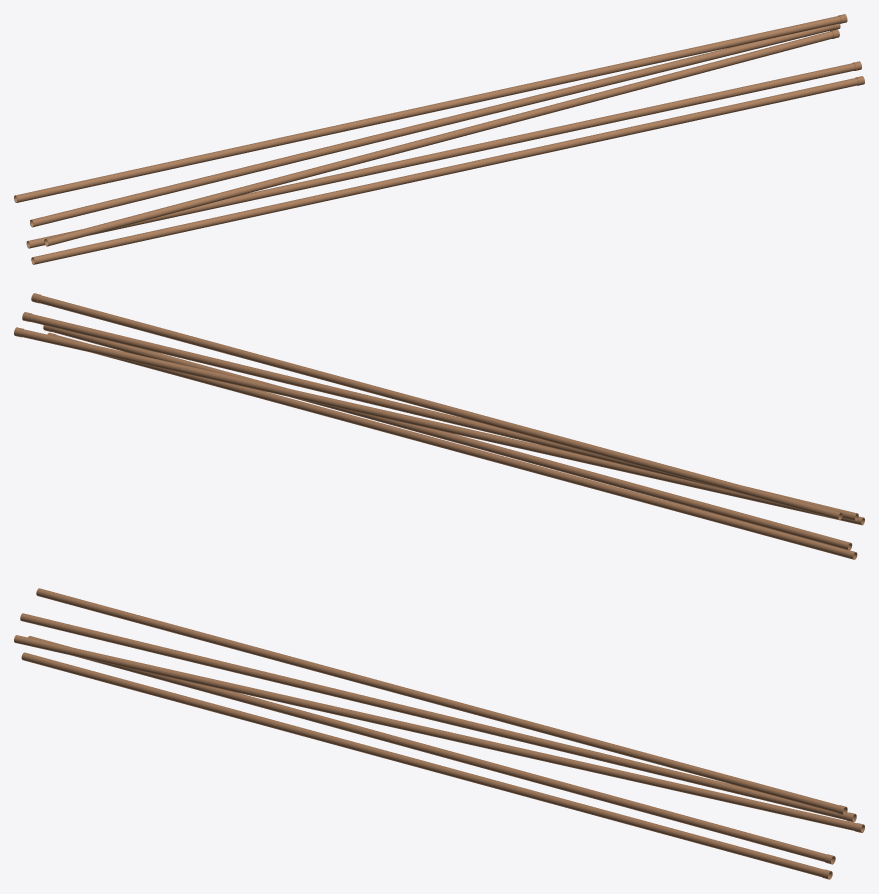
File: HID-AGF-004_anim.glb
3 views of the same model, one above another, from view 1: azimuth 30°, elevation 25°; view 2: azimuth 150°, elevation 25°; view 3: azimuth 330°, elevation 25° (orthographic). The views are drawn at different scales.
Parts seen in each view (by area): view 1: HID-AGF-004_anim0, HID-AGF-004_anim4, HID-AGF-004_anim2, HID-AGF-004_anim3, HID-AGF-004_anim1; view 2: HID-AGF-004_anim4, HID-AGF-004_anim2, HID-AGF-004_anim0, HID-AGF-004_anim1, HID-AGF-004_anim3; view 3: HID-AGF-004_anim2, HID-AGF-004_anim0, HID-AGF-004_anim4, HID-AGF-004_anim3, HID-AGF-004_anim1.
Part boxes in pixels (<box>): HID-AGF-004_anim0: <box>31,76,864,264</box>; HID-AGF-004_anim4: <box>14,14,847,202</box>; HID-AGF-004_anim2: <box>44,29,839,246</box>; HID-AGF-004_anim3: <box>30,23,840,227</box>; HID-AGF-004_anim1: <box>26,61,861,248</box>; HID-AGF-004_anim4: <box>31,293,842,520</box>; HID-AGF-004_anim2: <box>14,327,864,525</box>; HID-AGF-004_anim0: <box>47,332,857,559</box>; HID-AGF-004_anim1: <box>43,325,852,550</box>; HID-AGF-004_anim3: <box>22,312,858,520</box>; HID-AGF-004_anim2: <box>14,635,864,832</box>; HID-AGF-004_anim0: <box>21,652,832,879</box>; HID-AGF-004_anim4: <box>36,588,847,815</box>; HID-AGF-004_anim3: <box>20,613,856,822</box>; HID-AGF-004_anim1: <box>28,636,835,864</box>.
Bounding box in the file's own units: 6.03 × 0.4144 × 0.5424.
